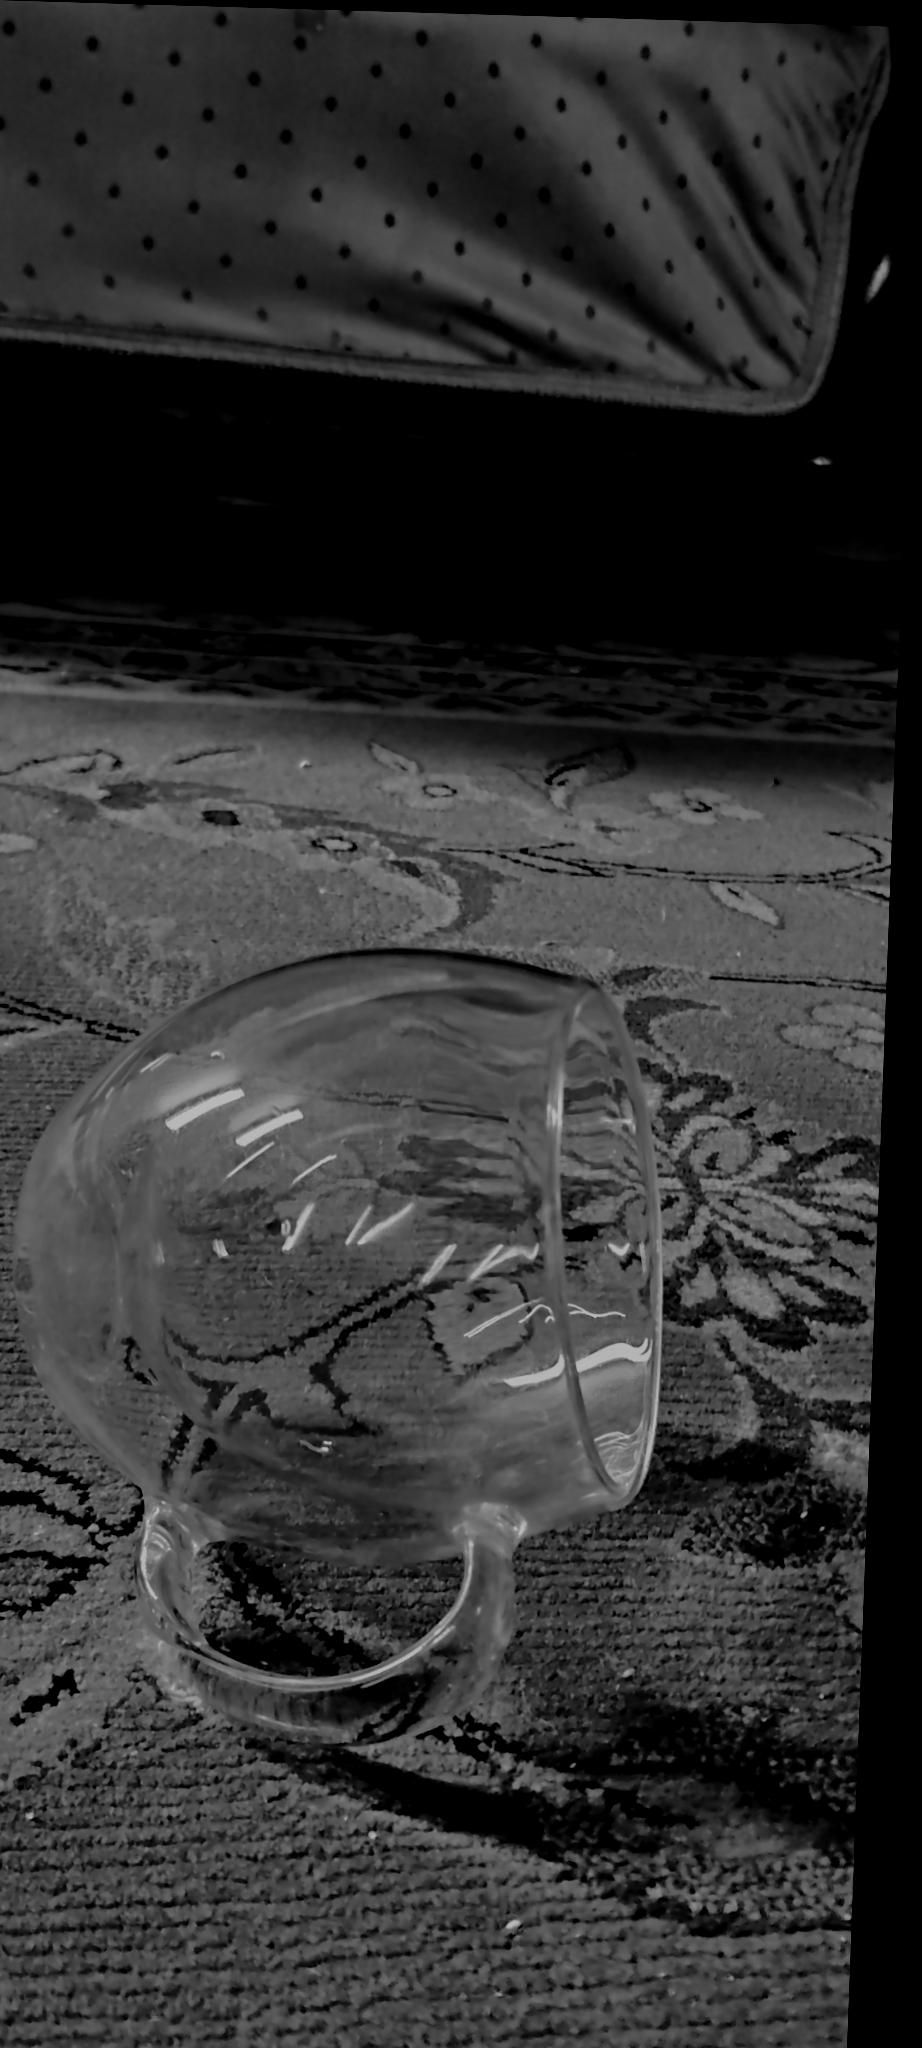Mug: (0, 937, 690, 1763)
